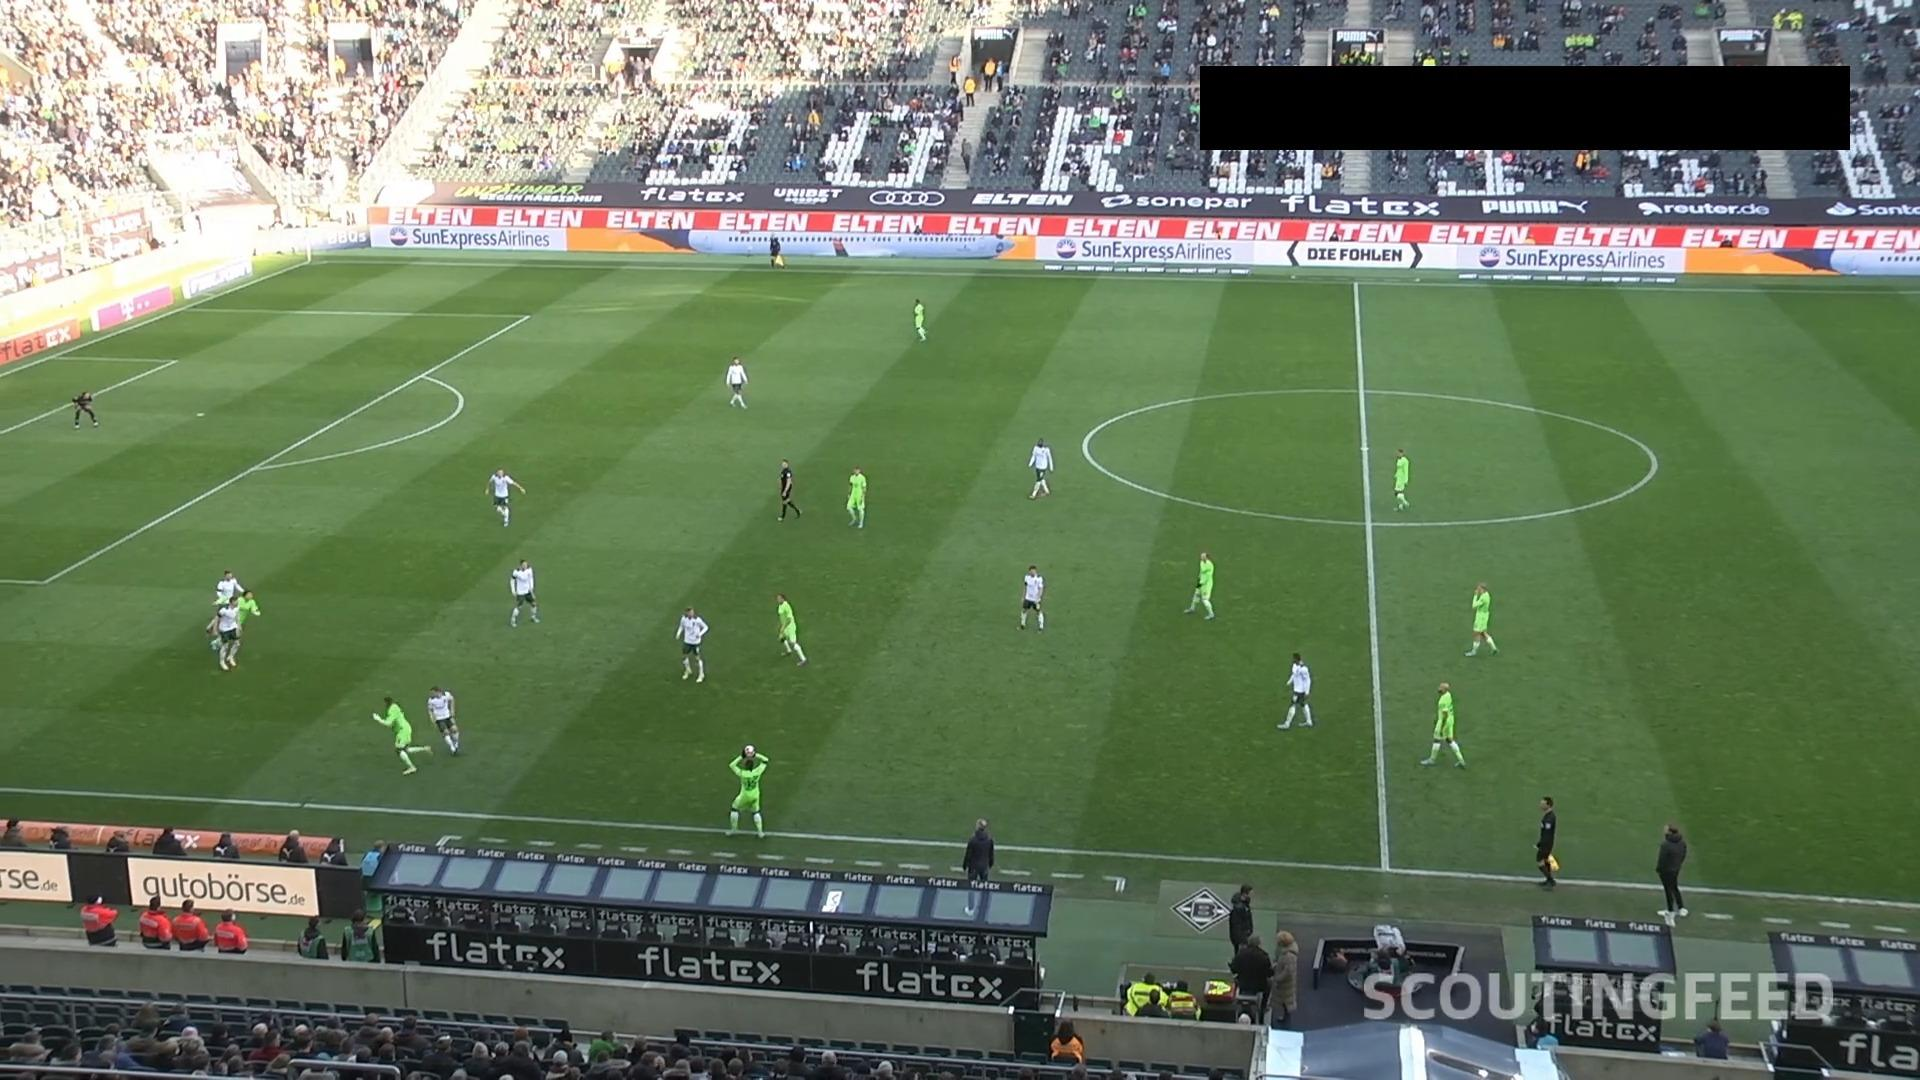coach: (1655, 823, 1688, 916), (961, 817, 994, 882)
player: (370, 694, 429, 775), (207, 587, 260, 670), (725, 743, 769, 838), (1418, 681, 1466, 768), (206, 569, 243, 650), (1276, 651, 1314, 729), (674, 605, 708, 683), (1463, 582, 1498, 656), (774, 592, 807, 666), (485, 467, 525, 527), (426, 685, 460, 754), (1182, 551, 1216, 619), (507, 558, 539, 627), (1017, 564, 1045, 630), (1027, 437, 1053, 498), (234, 588, 261, 645), (845, 466, 867, 528), (724, 356, 748, 408), (1392, 448, 1410, 510), (70, 389, 98, 428), (911, 297, 927, 341)
referee: (1534, 795, 1559, 889), (776, 458, 800, 521), (764, 228, 788, 280)
